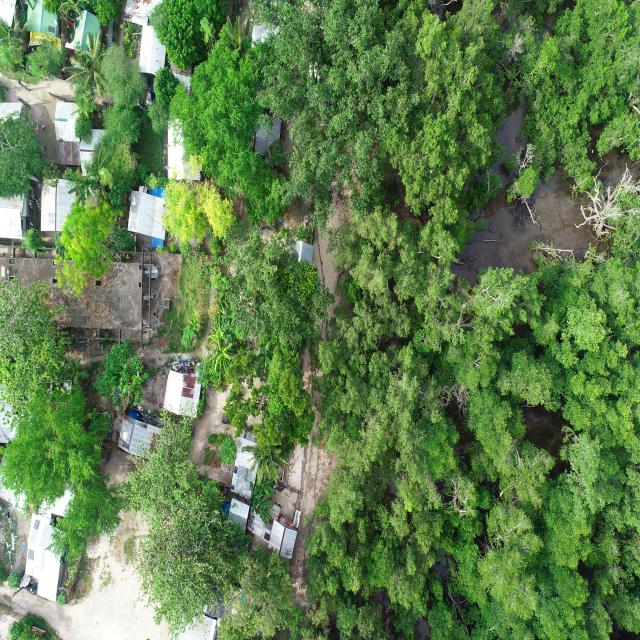Tree: (303, 249, 640, 640), (257, 0, 419, 225), (502, 0, 640, 222), (400, 0, 499, 265), (0, 382, 118, 572), (131, 418, 227, 640), (173, 35, 270, 220), (224, 231, 323, 379), (0, 270, 73, 420), (219, 534, 290, 640), (55, 194, 122, 305), (147, 0, 235, 81), (162, 174, 236, 261), (0, 110, 53, 207), (94, 99, 140, 199), (59, 24, 106, 111), (97, 339, 149, 414), (99, 41, 149, 116), (0, 8, 31, 70)
